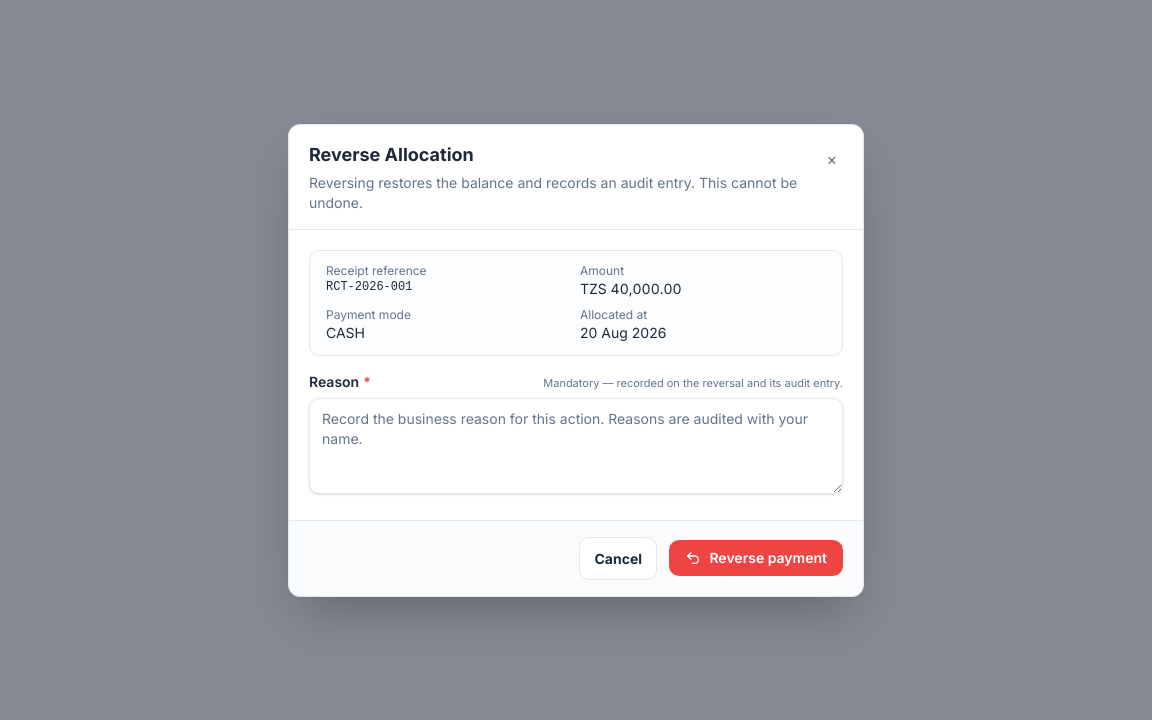
ReverseAllocationModal › requires a reason before reversing
Step 1. Click the button with test id "reverse-allocation-submit" → (756, 558), box left=669, top=540, right=843, bottom=576
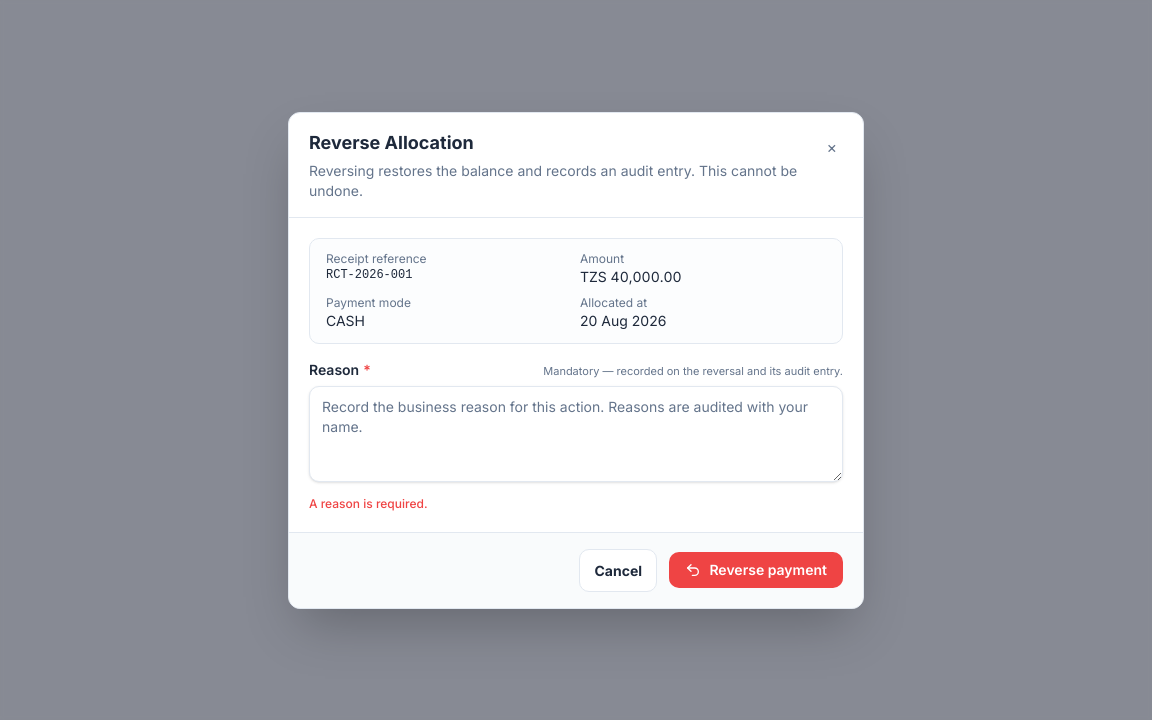
Result: the text "A reason is required." is shown at left=309, top=496, right=428, bottom=510
